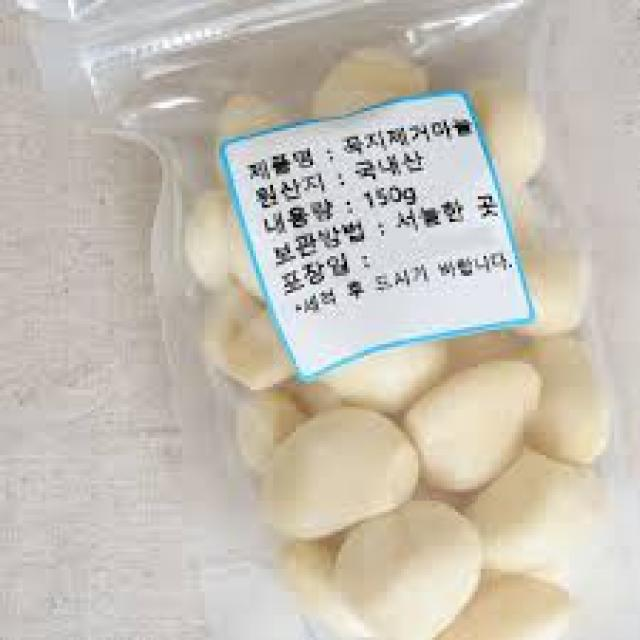garlic: (250, 367, 598, 631)
